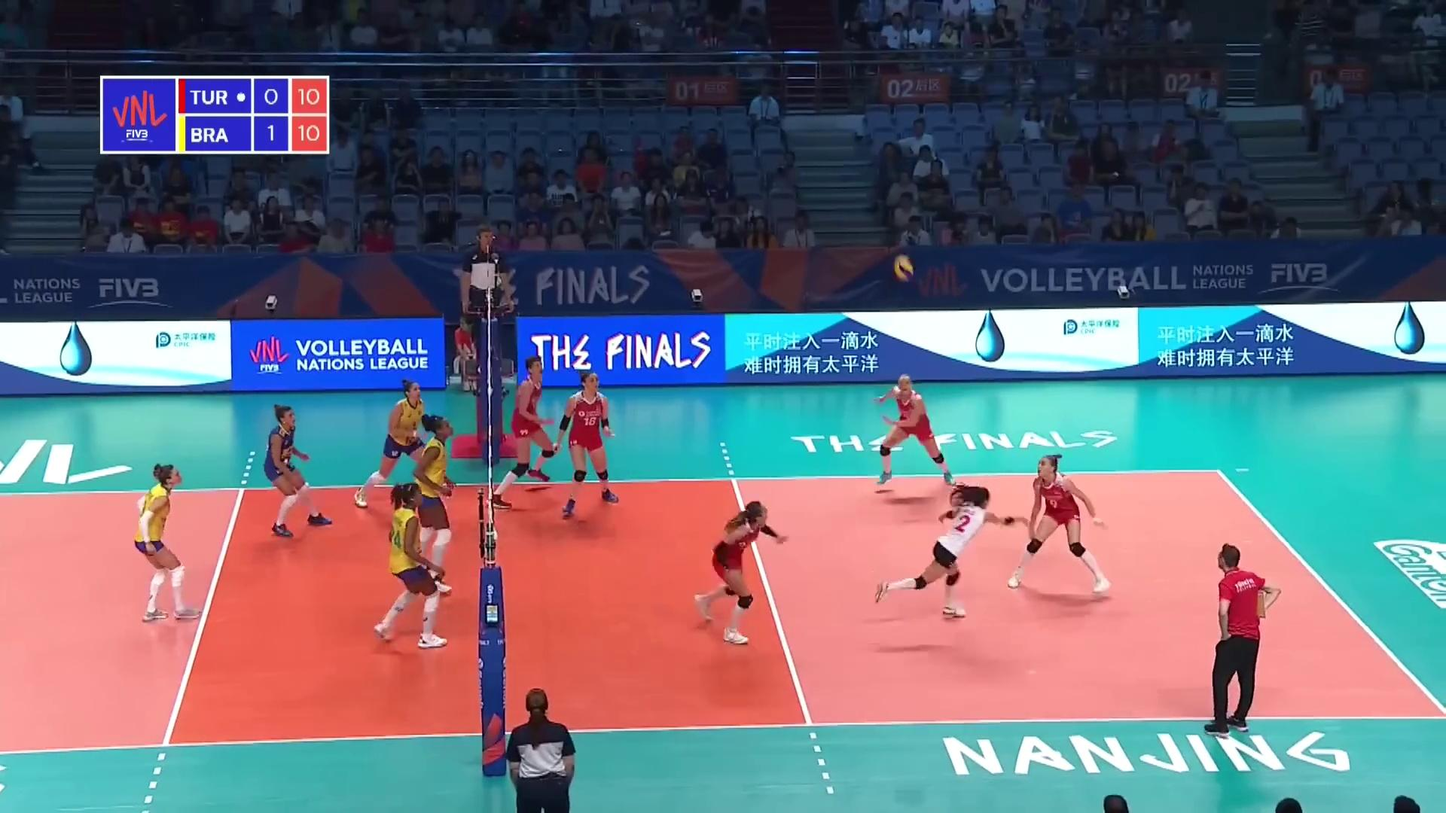player: (878, 487, 1027, 620), (1009, 455, 1112, 595), (694, 502, 786, 647), (373, 483, 451, 649), (133, 466, 202, 624), (352, 381, 425, 519), (875, 373, 960, 488), (555, 372, 621, 520), (494, 356, 555, 510), (265, 404, 331, 538), (407, 416, 454, 597)
refree: (505, 686, 576, 813), (463, 225, 510, 367)
